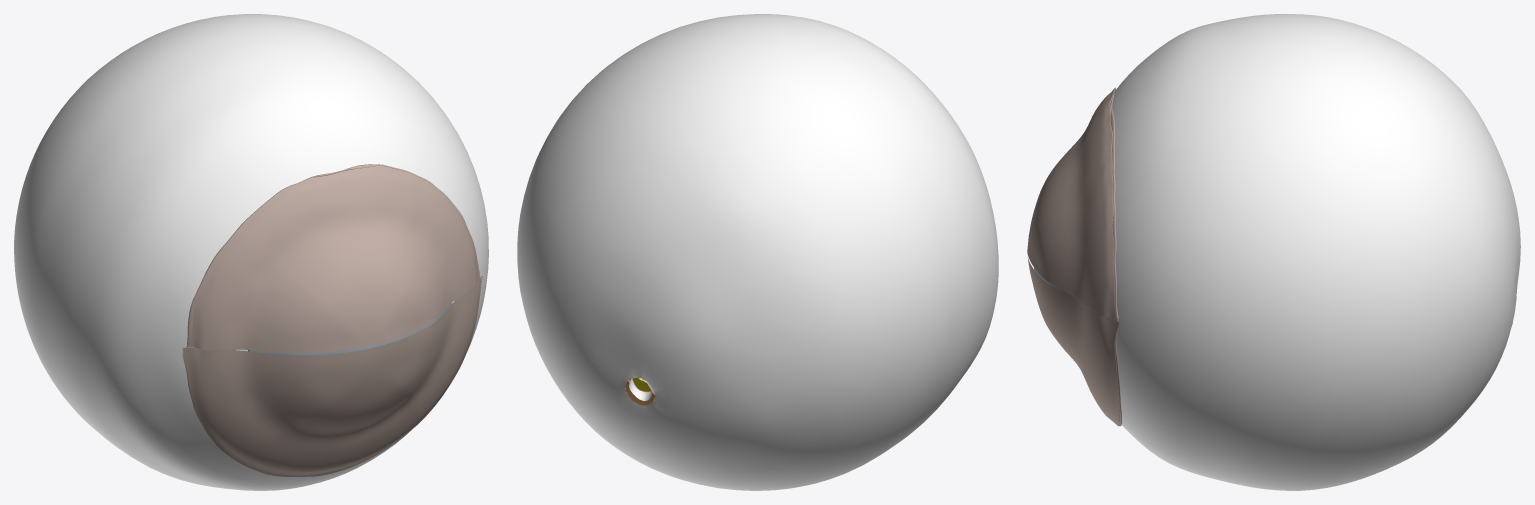
The model's file is hra-eye-left-male-v1.glb.
The picture shows the model from 3 angles, left to right: view 1: azimuth 30°, elevation 25°; view 2: azimuth 150°, elevation 25°; view 3: azimuth 270°, elevation 25°; orthographic projection.
Visible parts, largest first — view 1: VH_M_sclera_L, VH_M_palpebral_conjunctiva_of_upper_eyelid_L, VH_M_palpebral_conjunctiva_of_lower_eyelid_L, VH_M_bulbar_conjunctiva_L; view 2: VH_M_sclera_L; view 3: VH_M_sclera_L, VH_M_palpebral_conjunctiva_of_upper_eyelid_L, VH_M_palpebral_conjunctiva_of_lower_eyelid_L, VH_M_bulbar_conjunctiva_L.
Boxes of the visible parts, <box> form: VH_M_sclera_L: <box>14,14,488,490</box>; VH_M_palpebral_conjunctiva_of_upper_eyelid_L: <box>186,165,479,353</box>; VH_M_palpebral_conjunctiva_of_lower_eyelid_L: <box>182,275,482,476</box>; VH_M_bulbar_conjunctiva_L: <box>185,164,479,350</box>; VH_M_sclera_L: <box>517,14,998,490</box>; VH_M_sclera_L: <box>1112,14,1520,490</box>; VH_M_palpebral_conjunctiva_of_upper_eyelid_L: <box>1027,90,1118,320</box>; VH_M_palpebral_conjunctiva_of_lower_eyelid_L: <box>1027,257,1120,426</box>; VH_M_bulbar_conjunctiva_L: <box>1086,87,1122,426</box>.
Size of the model in its own units: 0.0245 by 0.0245 by 0.0254.
